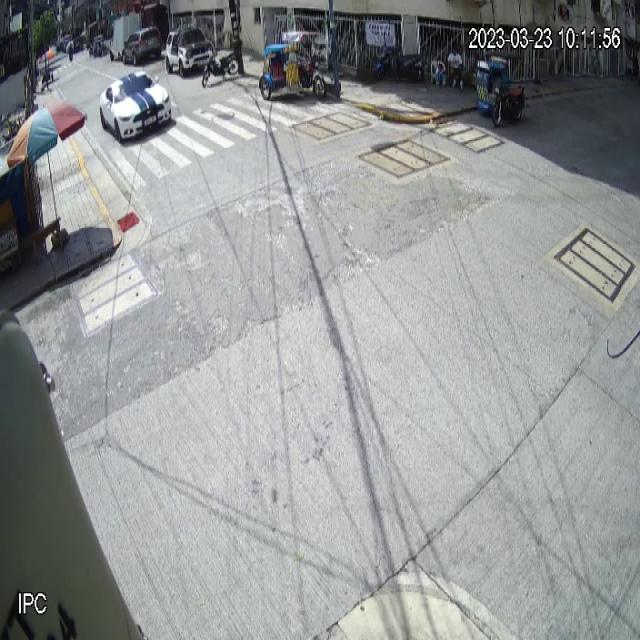Car: (100, 70, 172, 145)
Motorcycle: (202, 38, 244, 88)
Tricycle: (259, 30, 327, 103), (475, 51, 525, 128)
